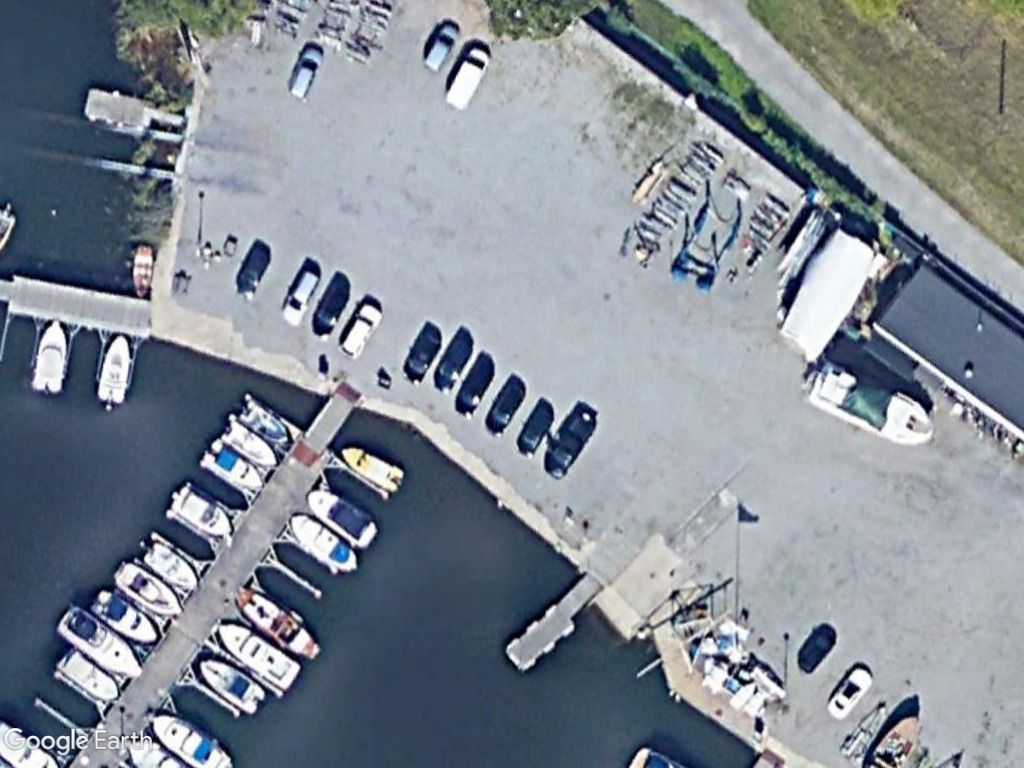boat: (808, 359, 937, 451), (50, 598, 149, 683), (212, 616, 302, 696), (235, 584, 325, 663), (285, 510, 368, 581), (107, 553, 187, 623), (164, 477, 242, 543), (301, 485, 380, 548), (84, 584, 163, 647), (192, 659, 269, 716), (133, 535, 203, 597), (212, 411, 282, 472), (53, 643, 123, 704), (334, 441, 411, 495), (200, 438, 268, 495), (30, 313, 74, 399), (88, 330, 134, 411), (233, 392, 295, 451)
car: (818, 659, 877, 727), (332, 295, 387, 365), (398, 313, 450, 386), (306, 267, 355, 341), (450, 348, 499, 421), (282, 34, 332, 104), (428, 325, 477, 395), (229, 233, 275, 305), (480, 369, 530, 435), (418, 15, 466, 80), (509, 391, 557, 455), (278, 259, 322, 325)
other: (542, 398, 602, 484)
van: (437, 40, 494, 116)
